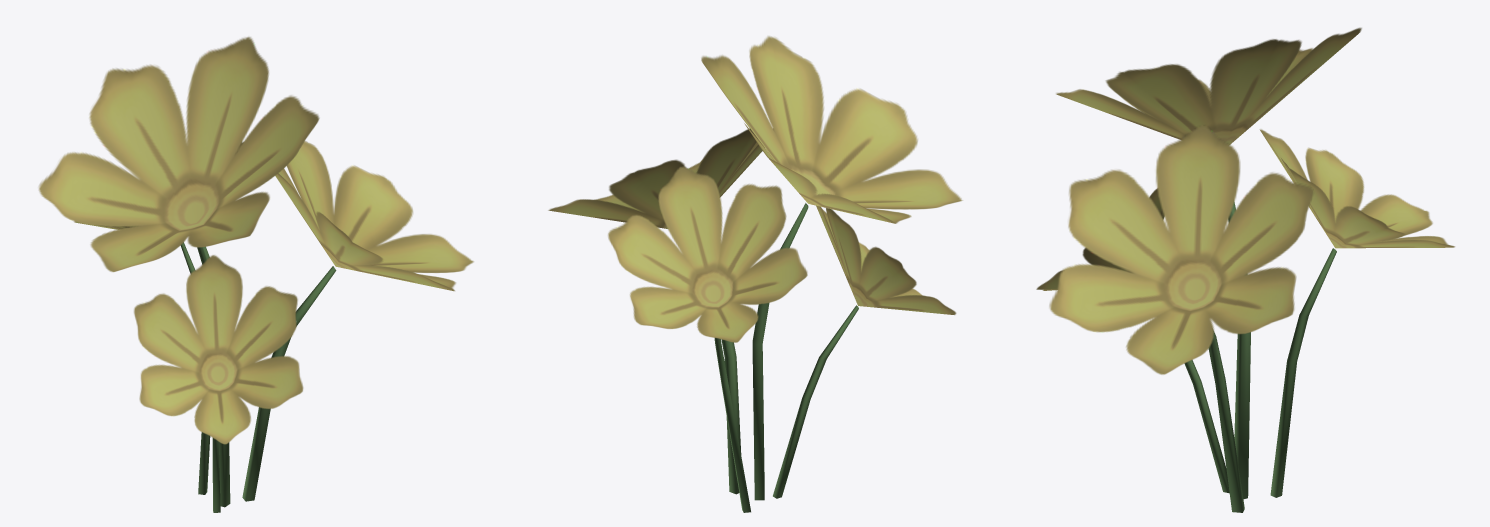
The model's file is Flower_2_Clump.gltf.
3 views of the same model, side by side, from view 1: azimuth 30°, elevation 25°; view 2: azimuth 150°, elevation 25°; view 3: azimuth 270°, elevation 25° (orthographic). The views are drawn at different scales.
Parts seen in each view (by area): view 1: Flower_2_Clump; view 2: Flower_2_Clump; view 3: Flower_2_Clump.
Part boxes in pixels (box(x1,y1,x2,y2)): Flower_2_Clump: box(38, 36, 473, 512); Flower_2_Clump: box(548, 36, 962, 512); Flower_2_Clump: box(1036, 27, 1454, 512).
Bounding box in the file's own units: 0.426 × 0.4508 × 0.3735.
Materials: 1 (1 with a texture image).
